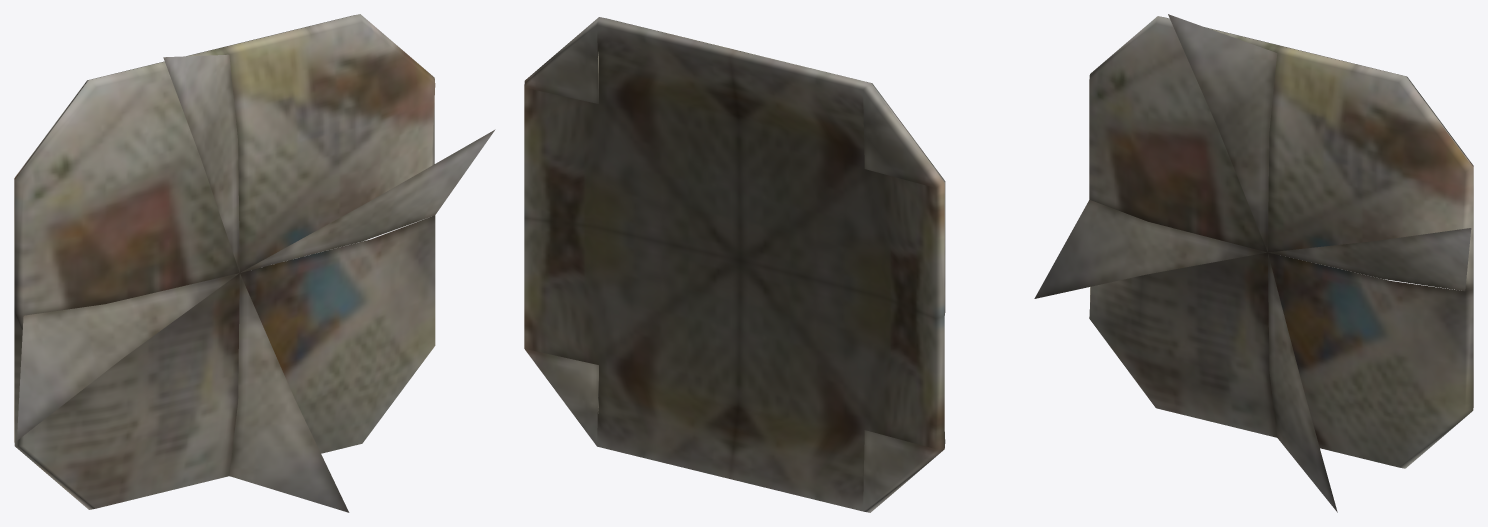
Rendered from paperShield.glb.
3 renders of one model, left to right at view 1: azimuth 30°, elevation 25°; view 2: azimuth 150°, elevation 25°; view 3: azimuth 330°, elevation 25°, orthographic. The views are drawn at different scales.
Visible parts, largest first — view 1: paperShield; view 2: paperShield; view 3: paperShield.
Boxes of the visible parts, box(x1,y1,x2,y2) form: paperShield: box(14, 14, 495, 512); paperShield: box(524, 17, 945, 512); paperShield: box(1034, 14, 1473, 512).
Bounding box in the file's own units: 0.9277 × 0.9277 × 0.1216.
1 material, 1 textured.
